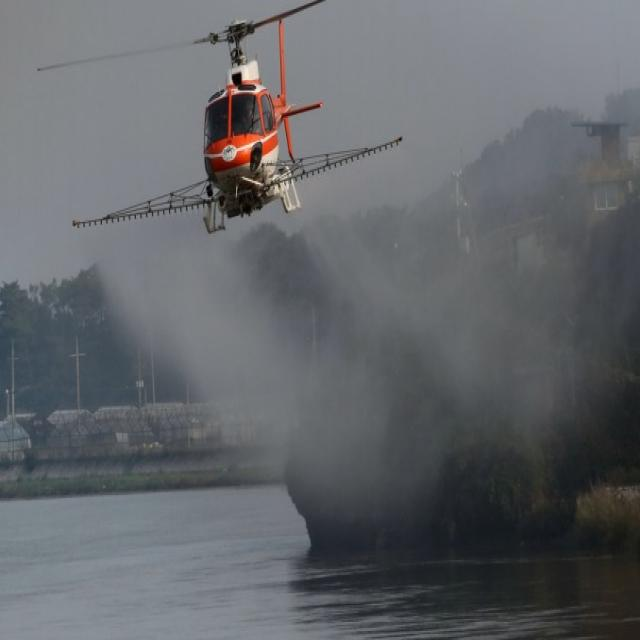helicopter: (67, 1, 383, 264)
